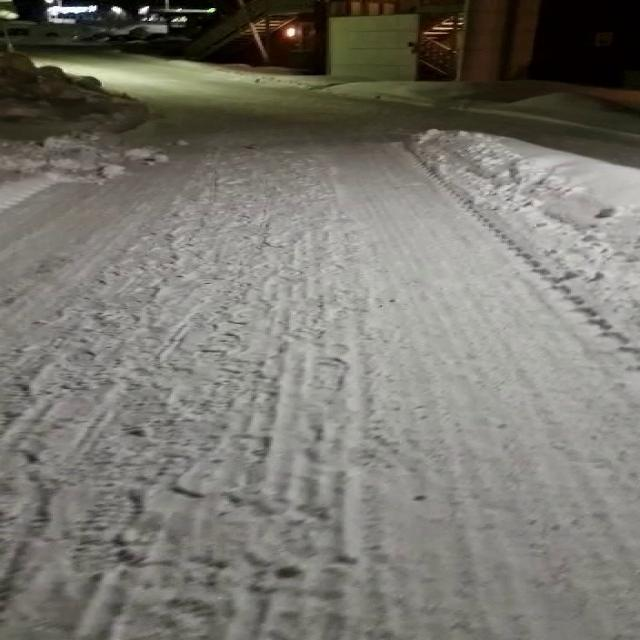path: (2, 52, 640, 640)
